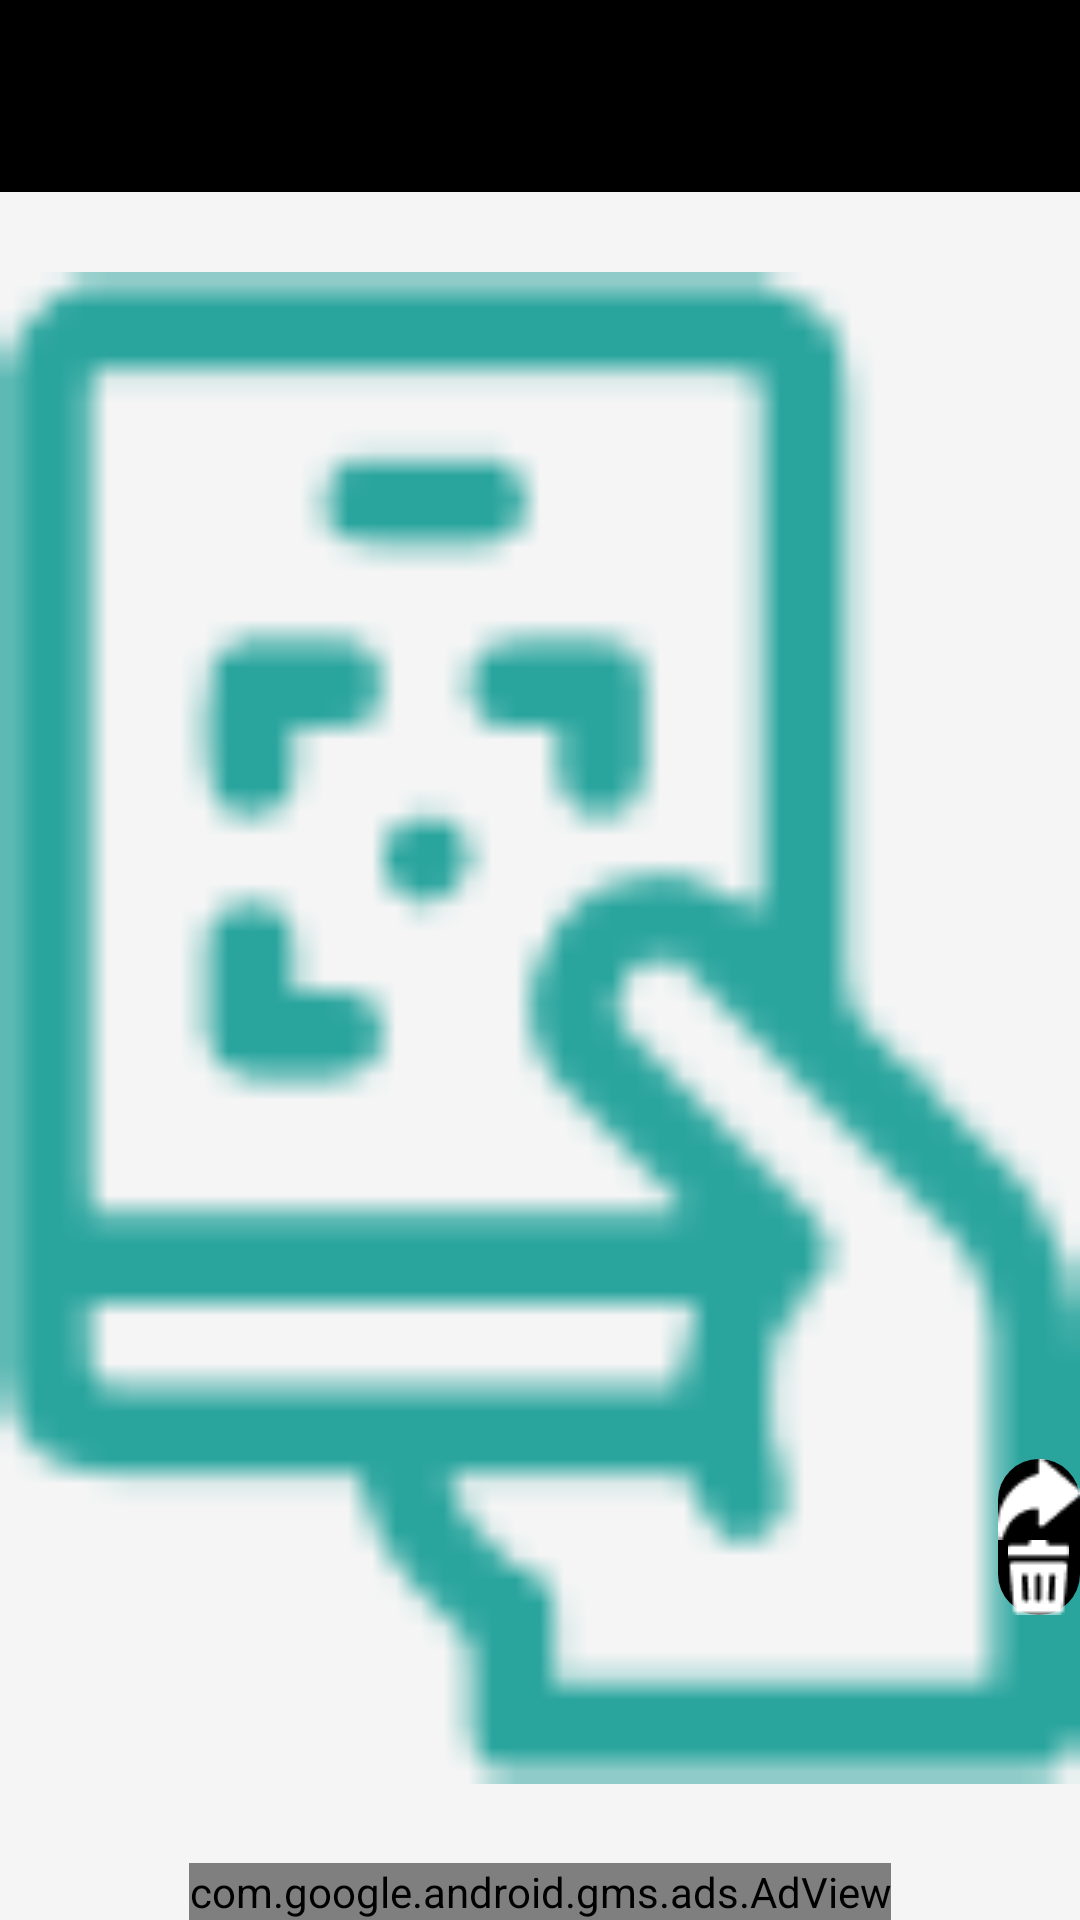

Point at icon controls on the screen. Image size 1080 × 1920, points as point (x, y).
delete: point (1038, 1577)
share: point (1039, 1499)
